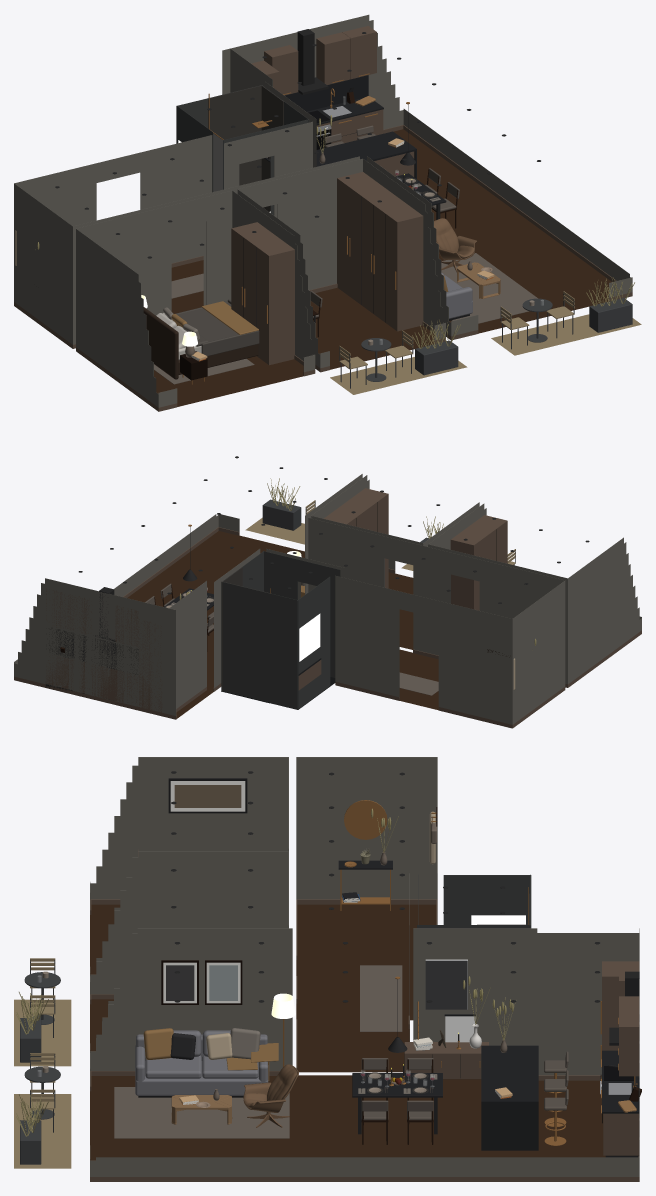
The model's file is unit-2.C-noir.glb.
3 renders of one model, top to bottom at view 1: azimuth 30°, elevation 25°; view 2: azimuth 150°, elevation 25°; view 3: azimuth 270°, elevation 25°, orthographic. The views are drawn at different scales.
Visible parts, largest first — view 1: int-wall, int-floor, int-joineryTall, int-joinery, int-showerWall, int-outdoor, int-deck, int-rug, int-worktop, int-skirting, int-bathWall, int-headboard (+14 smaller); view 2: int-wall, int-bathWall, int-joineryTall, int-floor, int-skirting, int-joinery, int-hallFloor, int-outdoor, int-splash, int-deck, int-ledStrip, int-rug (+2 smaller); view 3: int-wall, int-floor, int-hallFloor, int-worktop, int-rug, int-deck, int-sofa, int-skirting, int-bathWall, int-joineryTall, int-joinery, int-outdoor (+24 smaller).
Part boxes in pixels (left/top/right/bottom): int-wall: left=14, top=14, right=632, bottom=407; int-floor: left=154, top=129, right=611, bottom=406; int-joineryTall: left=231, top=60, right=423, bottom=365; int-joinery: left=264, top=26, right=414, bottom=176; int-showerWall: left=208, top=85, right=283, bottom=211; int-outdoor: left=339, top=294, right=632, bottom=388; int-deck: left=330, top=314, right=641, bottom=394; int-rug: left=154, top=253, right=537, bottom=384; int-worktop: left=264, top=98, right=446, bottom=205; int-skirting: left=14, top=125, right=632, bottom=411; int-bathWall: left=176, top=85, right=309, bottom=215; int-headboard: left=143, top=307, right=258, bottom=379; int-wall: left=14, top=474, right=641, bottom=724; int-bathWall: left=221, top=551, right=340, bottom=709; int-joineryTall: left=139, top=488, right=507, bottom=715; int-floor: left=127, top=531, right=413, bottom=718; int-skirting: left=14, top=527, right=641, bottom=728; int-joinery: left=45, top=588, right=138, bottom=703; int-hallFloor: left=399, top=649, right=438, bottom=710; int-outdoor: left=262, top=499, right=515, bottom=565; int-splash: left=49, top=628, right=138, bottom=668; int-deck: left=245, top=517, right=413, bottom=570; int-ledStrip: left=299, top=613, right=320, bottom=661; int-rug: left=399, top=672, right=438, bottom=695; int-wall: left=90, top=757, right=639, bottom=1176; int-floor: left=90, top=904, right=605, bottom=1160; int-hallFloor: left=296, top=904, right=436, bottom=1072; int-worktop: left=338, top=860, right=639, bottom=1150; int-rug: left=114, top=965, right=402, bottom=1138; int-deck: left=14, top=999, right=71, bottom=1168; int-sofa: left=135, top=1030, right=268, bottom=1095; int-skirting: left=90, top=899, right=639, bottom=1181; int-bathWall: left=417, top=874, right=531, bottom=928; int-joineryTall: left=138, top=849, right=639, bottom=1079; int-joinery: left=603, top=965, right=639, bottom=1155; int-outdoor: left=20, top=960, right=60, bottom=1164.
Size of the model in its own units: 10.9 by 2.8 by 10.39.
